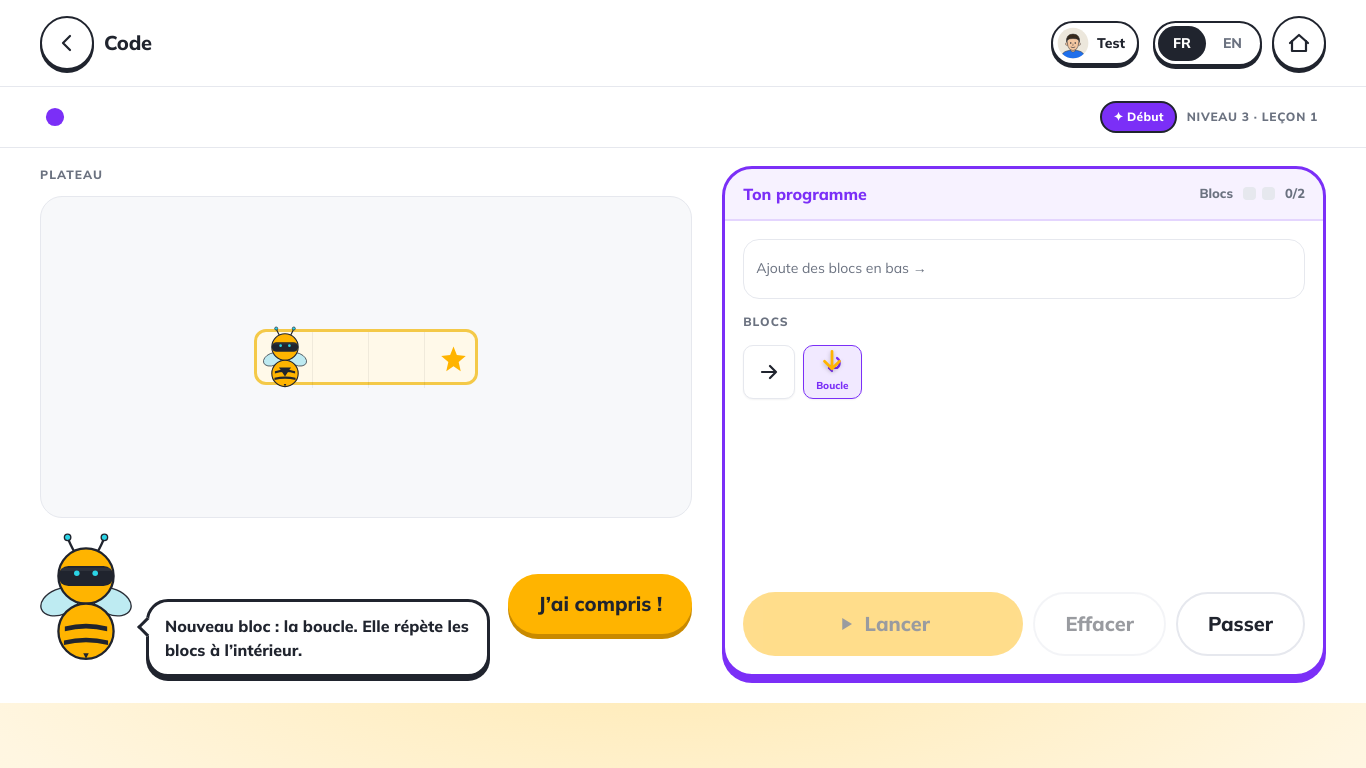
Test: CodeTurtleSession loops (level 3) › places a loop, sets the count, fills its body, and solves within budget
Click the button with aria-label "repeat": (832, 372) [803,345,862,399]
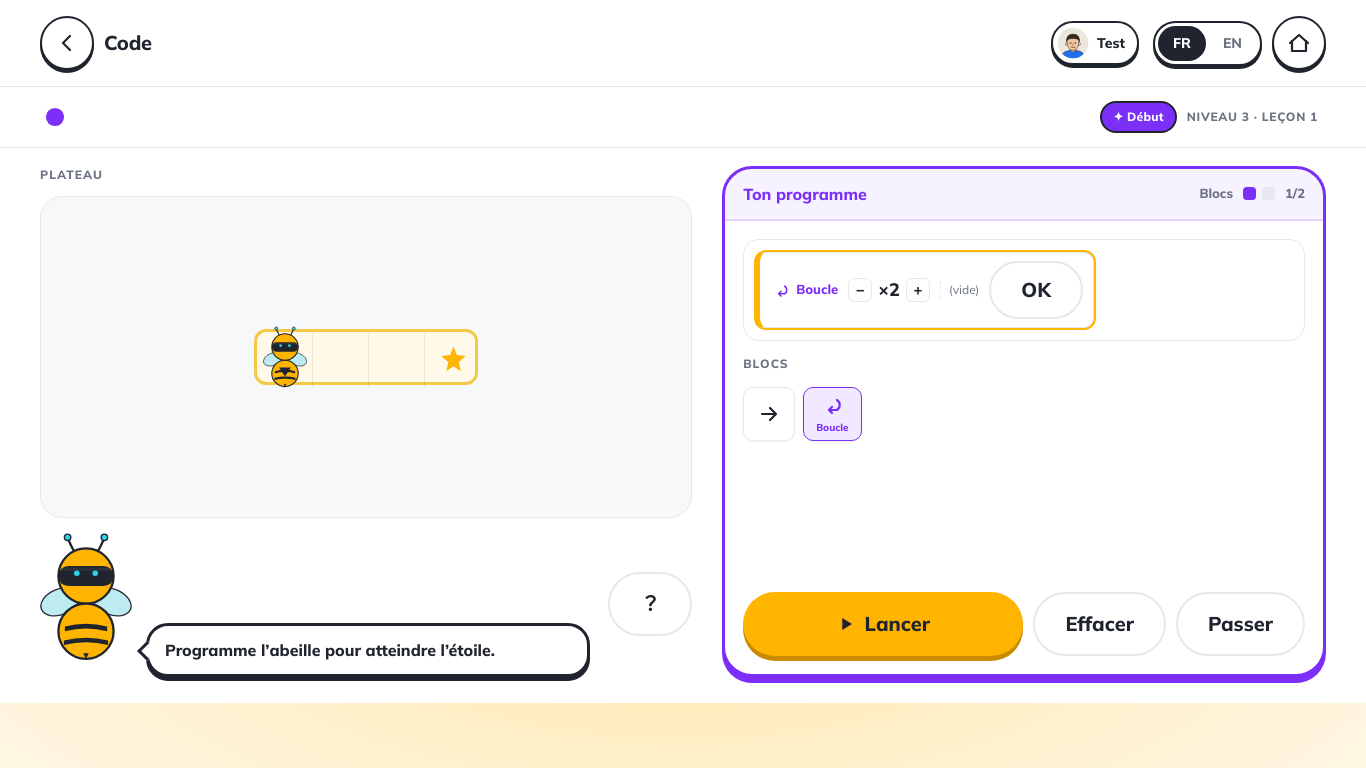
Click the button named "count-up": (918, 290) [906,278,930,302]
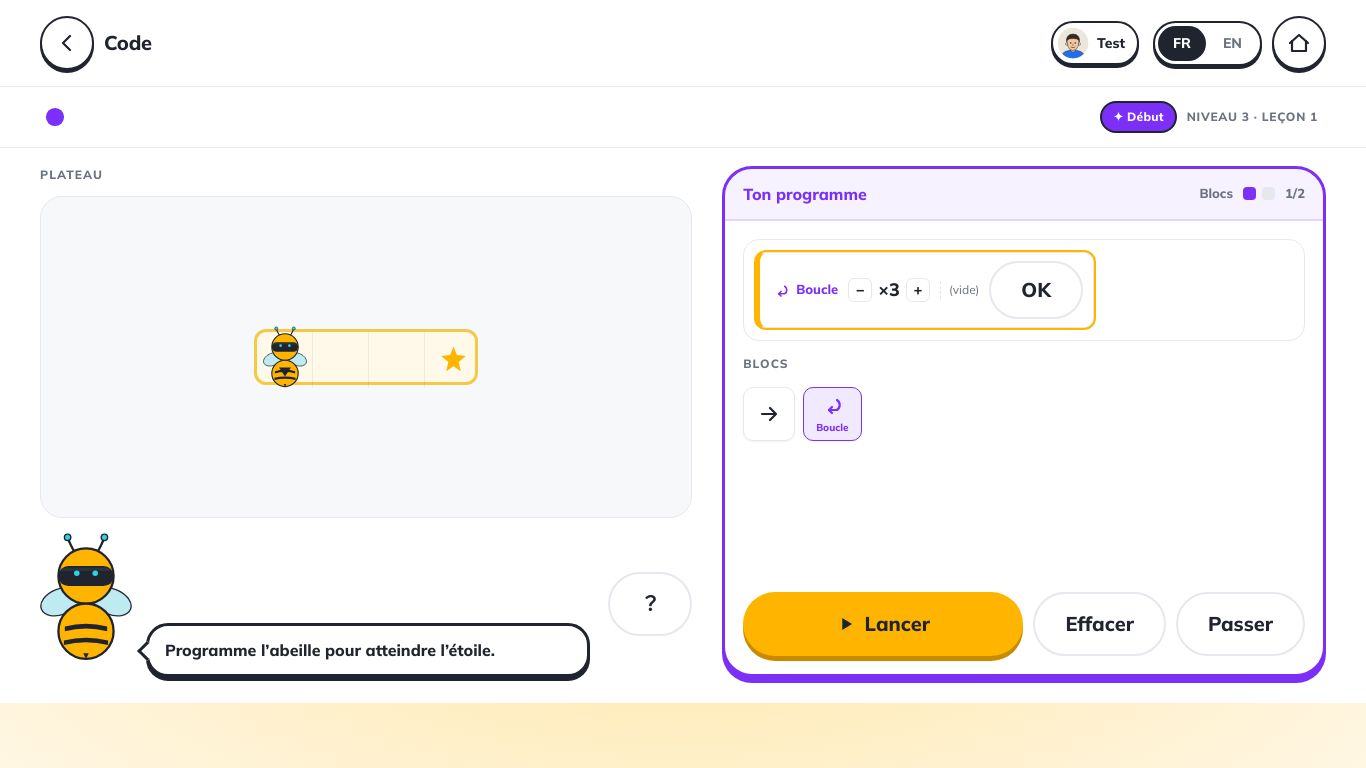
Click the button named "right": (769, 414) [743,387,795,441]
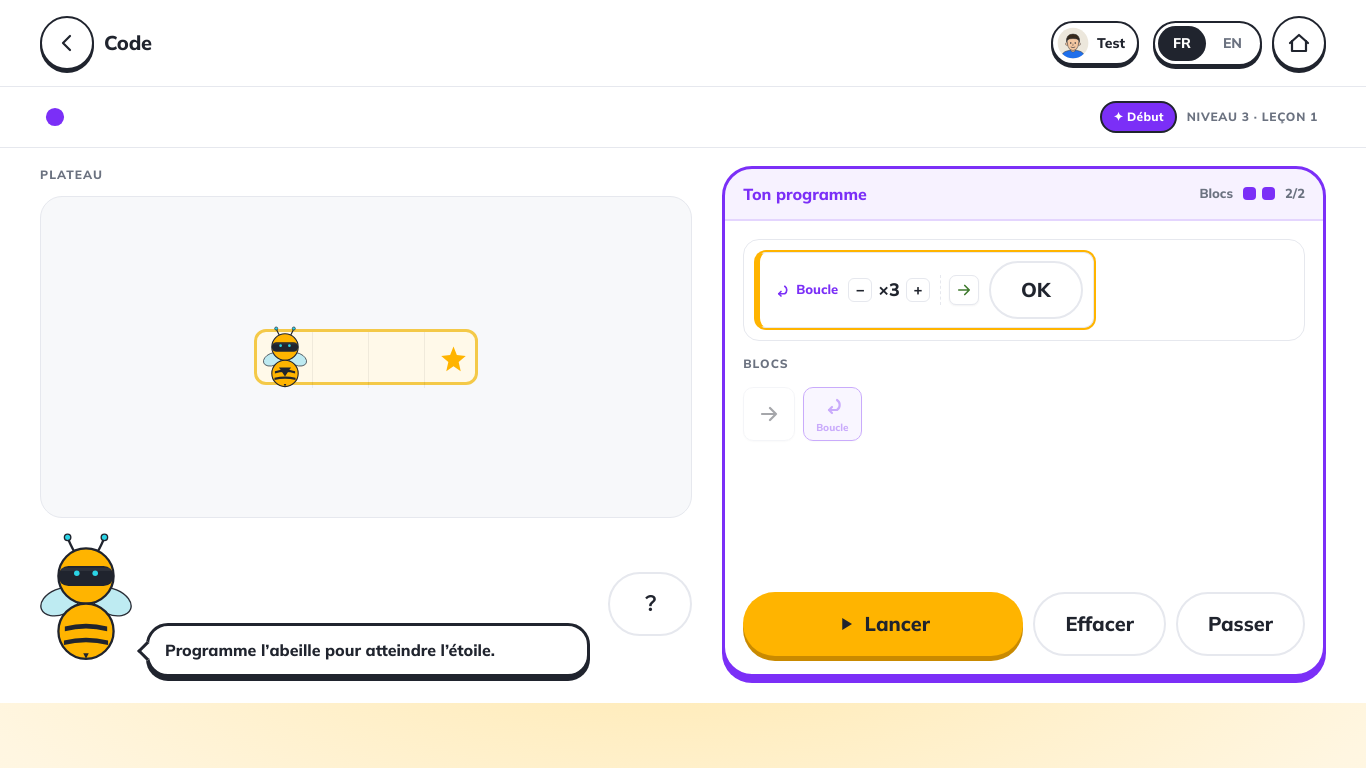
Click the button "Lancer": (883, 624) [743,592,1023,656]
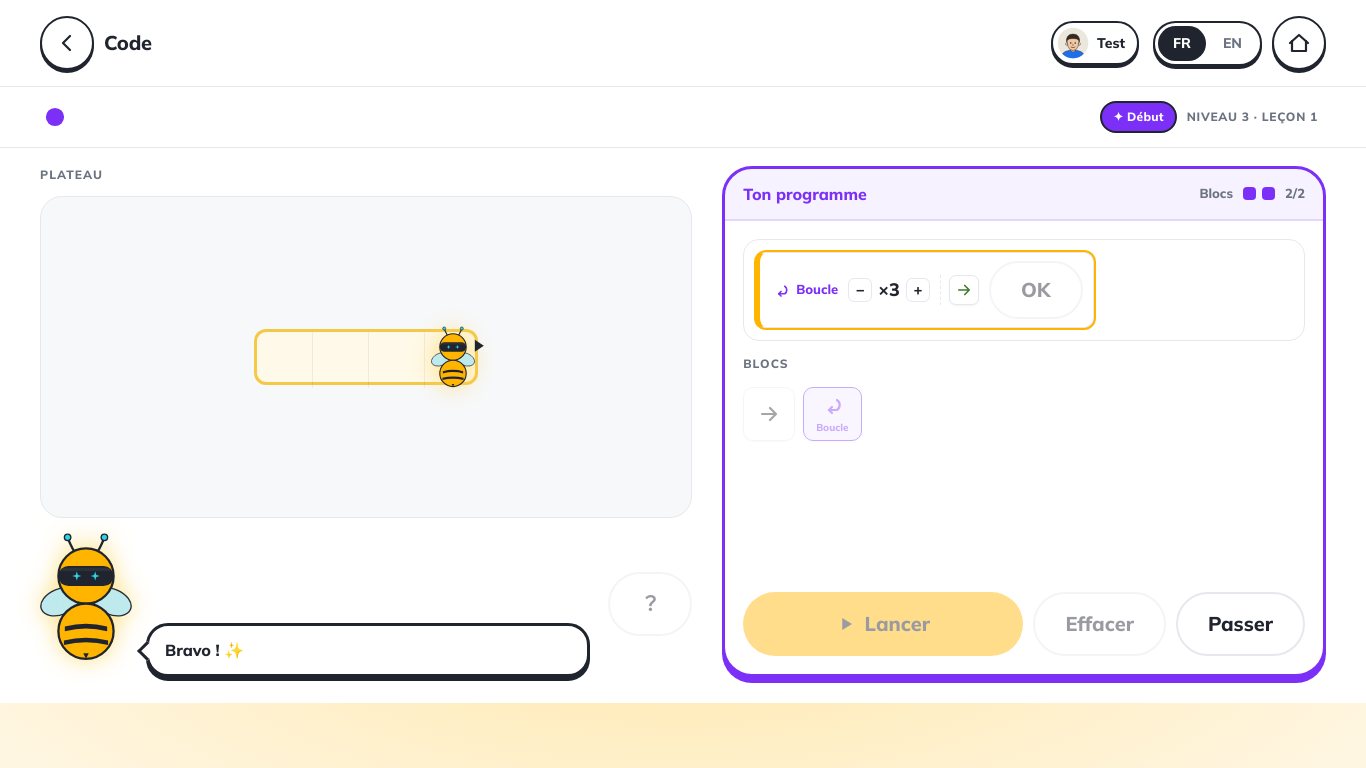
Check: the text with class "bee-coach-text" reads "Bravo ! ✨", box [165,640,244,660]
